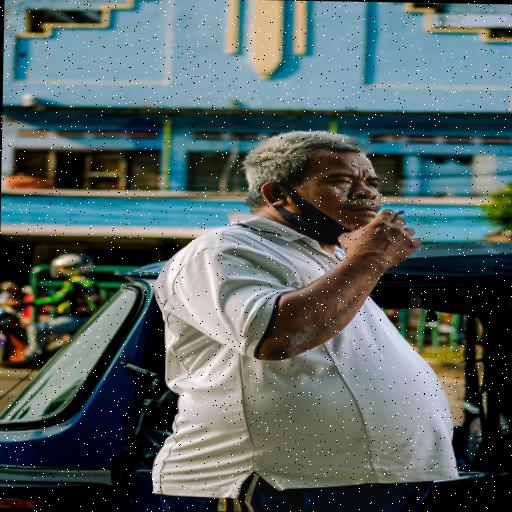pegang rokok: (338, 183, 444, 274)
